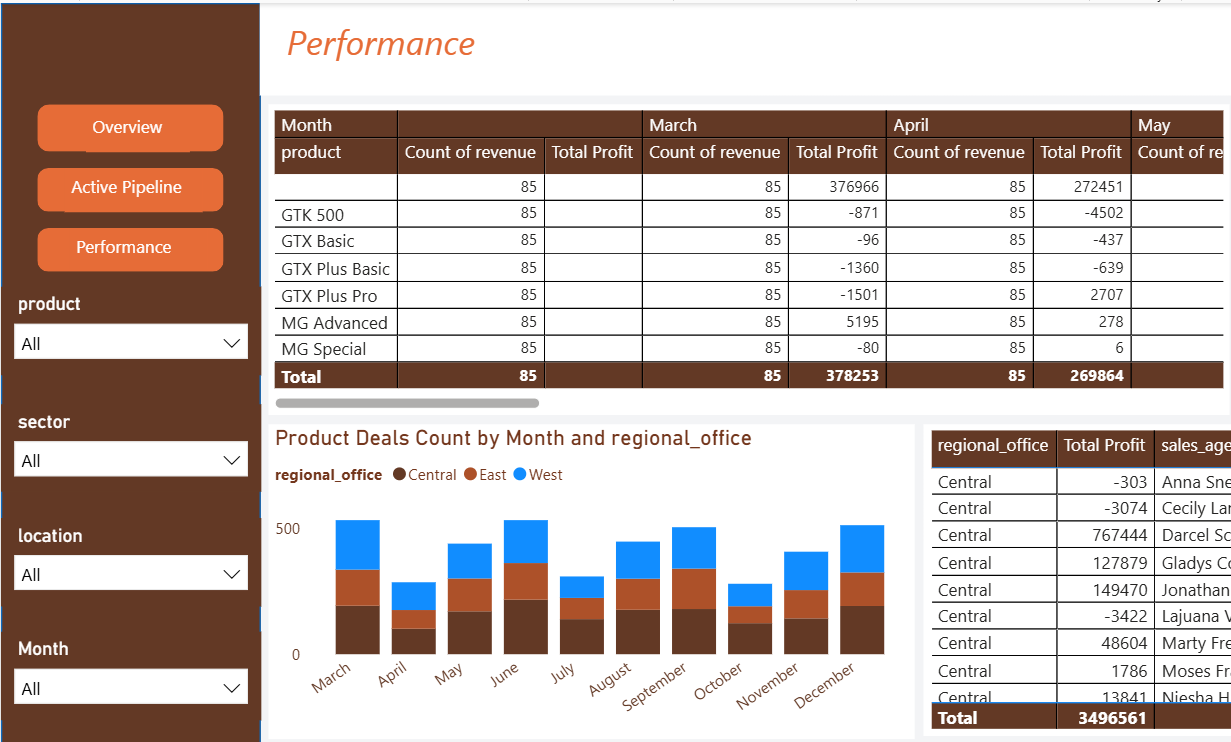

The page's visual inventory and layout, read from the dashboard file:
{"tool":"powerbi","page":{"name":"Performance","canvas":[960,580],"ordinal":2},"visuals":[{"type":"shape","box":[0,0,202,580],"z":0},{"type":"slicer","fields":{"Values":["Product.product"]},"box":[0,221,202,69],"z":1000},{"type":"slicer","fields":{"Values":["account.sector"]},"box":[0,312,202,68],"z":2000},{"type":"slicer","fields":{"Values":["account.office_location"]},"box":[0,400,202,69],"z":3000},{"type":"slicer","fields":{"Values":["sales_pipeline.engage_date.Variation.Date Hierarchy.Month"]},"box":[0,489,202,69],"z":4000},{"type":"shape","box":[28,79,145,37],"z":5000},{"type":"shape","box":[28,128,145,34],"z":6000},{"type":"shape","box":[28,175,145,34],"z":7000},{"type":"actionButton","box":[53,83,100,29],"z":8000},{"type":"textbox","box":[50,128,107,34],"z":9000},{"type":"textbox","box":[53,175,107,32],"z":10000},{"type":"actionButton","box":[50,175,100,29],"z":11000},{"type":"actionButton","box":[53,128,100,29],"z":12000},{"type":"textbox","box":[66,82,81,34],"z":13000},{"type":"lineStackedColumnComboChart","fields":{"Category":["sales_pipeline.close_date.Variation.Date Hierarchy.Month"],"Y":["sales_pipeline.Product Deals Count"],"Series":["Sales_Teams.regional_office"]},"box":[208,328,502,245],"z":14000},{"type":"shape","box":[201.2,0,869.8,71.9],"z":15000},{"type":"textbox","box":[210,7,241,58],"z":16000},{"type":"pivotTable","fields":{"Rows":["Product.product"],"Columns":["sales_pipeline.close_date.Variation.Date Hierarchy.Month"],"Values":["CountNonNull(account.revenue)","sales_pipeline.Total Profit"]},"box":[208,78.7,747.4,242],"z":17000},{"type":"tableEx","fields":{"Values":["Sales_Teams.regional_office","sales_pipeline.Total Profit","sales_pipeline.sales_agent"]},"box":[717,328,337,242],"z":18000}]}

Visuals, with their boxes on the page's 960x580 design canvas (x1, y1, x2, y2). These are canvas units, not pixel positions in the 1231x742 screenshot, which may show the page scaled, cropped or inside an application window:
shape: 0,0,202,580
slicer - Product.product: 0,221,202,290
slicer - account.sector: 0,312,202,380
slicer - account.office_location: 0,400,202,469
slicer - sales_pipeline.engage_date.Variation.Date Hierarchy.Month: 0,489,202,558
shape: 28,79,173,116
shape: 28,128,173,162
shape: 28,175,173,209
actionButton: 53,83,153,112
textbox: 50,128,157,162
textbox: 53,175,160,207
actionButton: 50,175,150,204
actionButton: 53,128,153,157
textbox: 66,82,147,116
lineStackedColumnComboChart - sales_pipeline.close_date.Variation.Date Hierarchy.Month x sales_pipeline.Product Deals Count: 208,328,710,573
shape: 201,0,1071,72
textbox: 210,7,451,65
pivotTable - Product.product x sales_pipeline.close_date.Variation.Date Hierarchy.Month: 208,79,955,321
tableEx - Sales_Teams.regional_office x sales_pipeline.Total Profit: 717,328,1054,570
